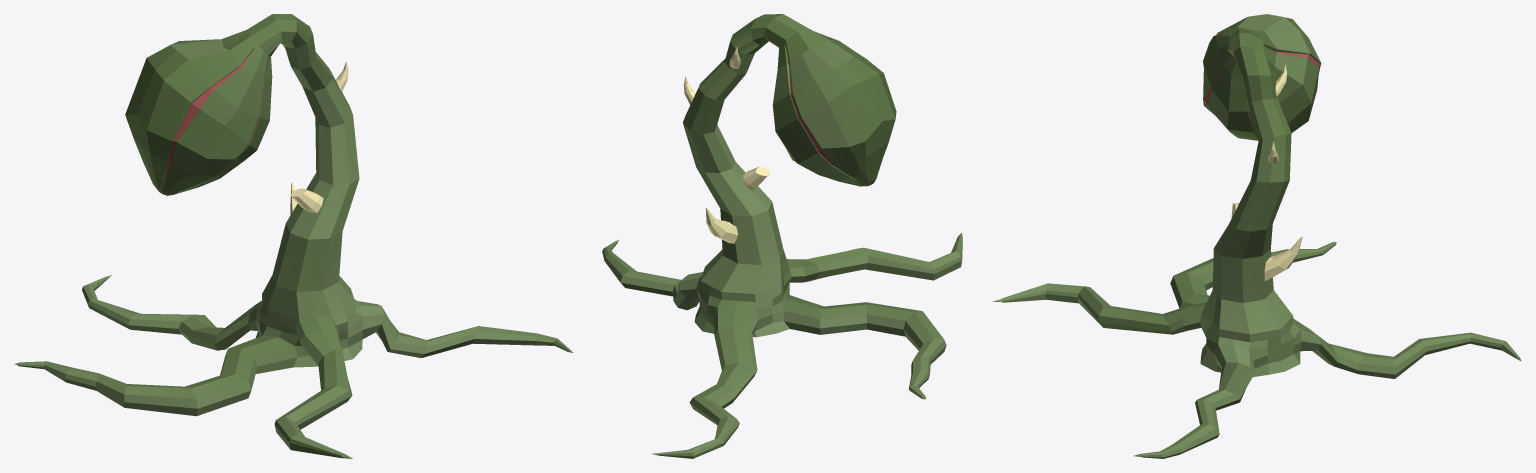
The model's file is carnivorous_plant_1_a.glb.
3 views of the same model, side by side, from view 1: azimuth 30°, elevation 25°; view 2: azimuth 150°, elevation 25°; view 3: azimuth 270°, elevation 25° (orthographic). The views are drawn at different scales.
Visible parts, largest first — view 1: carnivorous_plant_1_a; view 2: carnivorous_plant_1_a; view 3: carnivorous_plant_1_a.
Boxes of the visible parts, left/top/right/bottom form: carnivorous_plant_1_a: left=14, top=14, right=572, bottom=458; carnivorous_plant_1_a: left=602, top=14, right=962, bottom=458; carnivorous_plant_1_a: left=992, top=14, right=1521, bottom=458.
Bounding box in the file's own units: 3.59 × 2.87 × 4.02.
1 material, 1 textured.
